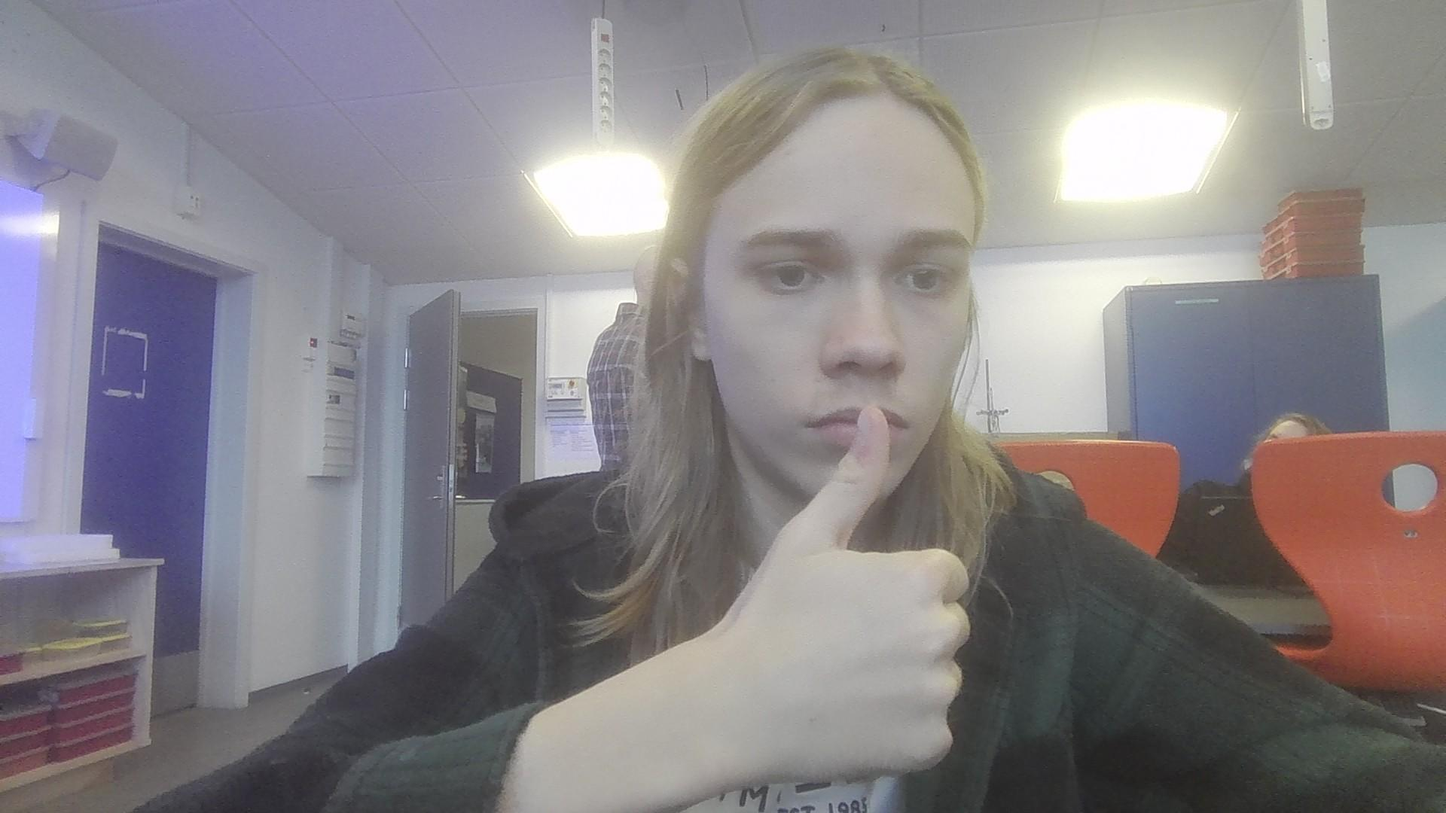thumbs up: (685, 392, 1002, 789)
